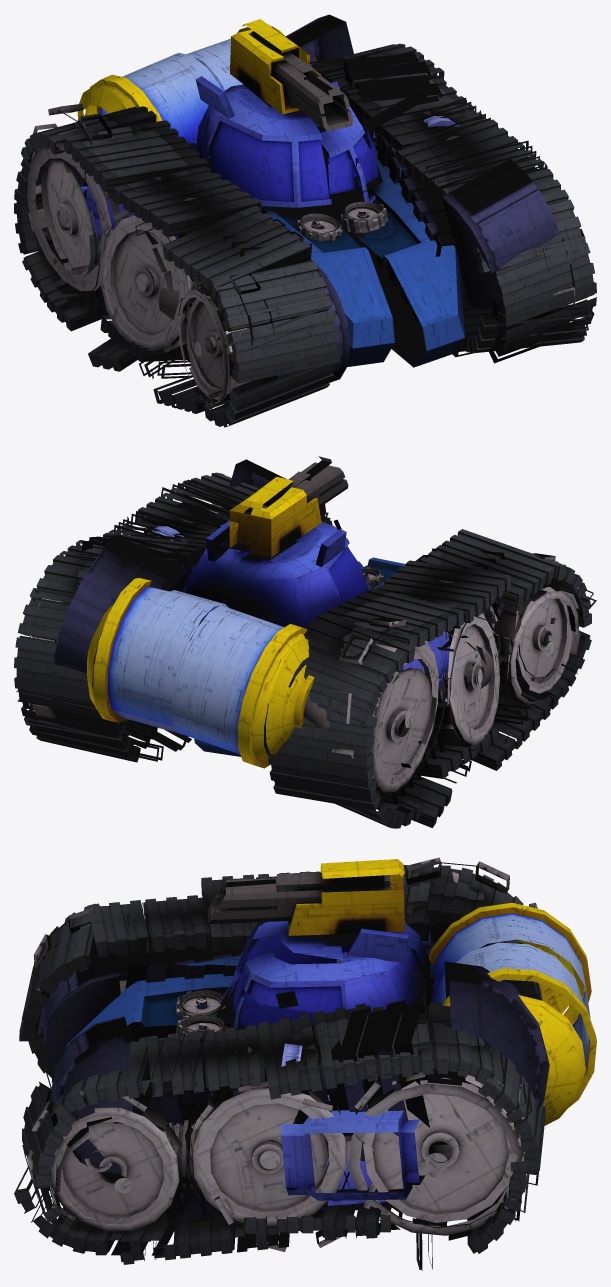
Rendered from PlayerB_die5.obj.
3 renders of one model, top to bottom at view 1: azimuth 30°, elevation 25°; view 2: azimuth 150°, elevation 25°; view 3: azimuth 270°, elevation 25°, orthographic. The views are drawn at different scales.
Parts seen in each view (by area): view 1: Object005; view 2: Object005; view 3: Object005.
Boxes of the visible parts, bbox=[...] form: Object005: bbox=[14, 14, 596, 427]; Object005: bbox=[14, 456, 596, 828]; Object005: bbox=[14, 857, 596, 1270].
Size of the model in its own units: 130 by 96.13 by 152.
2 materials, 2 textured.
